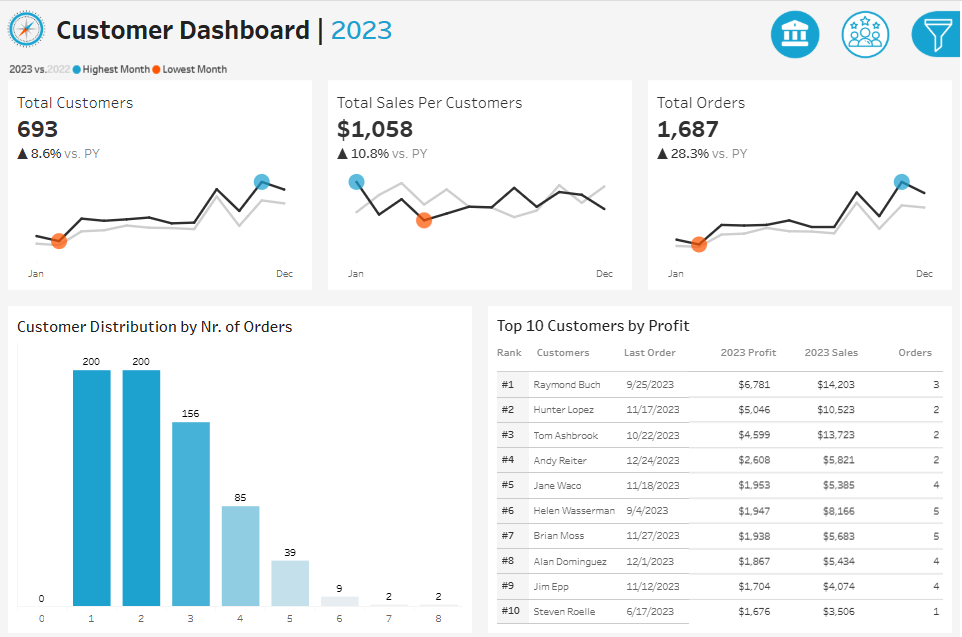

The page's visual inventory and layout, read from the dashboard file:
{"tool":"tableau","page":{"name":"Customer Dashboard","canvas":[1200,800],"ordinal":0},"visuals":[{"type":"image","param":"Image/Icon - Logo.png","box":[0,0,66,70]},{"type":"text","box":[66,0,866,70]},{"type":"dashboard-object","box":[950,7,88,70]},{"type":"dashboard-object","box":[1038,7,87,70]},{"type":"blank","box":[965,10,225,95]},{"type":"worksheet","title":"Legend KPI","mark":"Automatic","box":[0,70,1200,29]},{"type":"worksheet","title":"KPI Customers","mark":"Line","rows":["Calculation_0217446763917322"],"cols":["Order Date"],"box":[0,99,400,272]},{"type":"worksheet","title":"KPI Sales Per Customers","mark":"Line","rows":["Calculation_0217446764216332"],"cols":["Order Date"],"box":[400,99,400,272]},{"type":"worksheet","title":"KPI Orders","mark":"Line","rows":["Calculation_0217446764077067"],"cols":["Order Date"],"box":[800,99,400,272]},{"type":"text","box":[965,105,225,34]},{"type":"parameter","param":"[Parameters].[Parameter 1]","box":[965,139,225,52]},{"type":"text","box":[965,191,225,29]},{"type":"filter","title":"KPI Customers","param":"[federated.10qj6ag14nijd81acj69e0wgoz1s].[none:Category:nk]","box":[965,220,225,52]},{"type":"filter","title":"KPI Customers","param":"[federated.10qj6ag14nijd81acj69e0wgoz1s].[none:Sub-Category:nk]","box":[965,272,225,52]},{"type":"blank","box":[965,324,225,60]},{"type":"text","box":[965,384,225,29]},{"type":"text","box":[17,388,566,34]},{"type":"text","box":[617,388,566,32]},{"type":"filter","title":"KPI Customers","param":"[federated.10qj6ag14nijd81acj69e0wgoz1s].[none:Region:nk]","box":[965,413,225,52]},{"type":"text","box":[617,420,50,39]},{"type":"text","box":[667,420,109,39]},{"type":"text","box":[776,420,121,39]},{"type":"text","box":[897,420,105,39]},{"type":"text","box":[1002,420,117,39]},{"type":"text","box":[1119,420,64,39]},{"type":"worksheet","title":"Customer Distribution","mark":"Bar","rows":["Calculation_0217446758776832"],"cols":["Calculation_0217446759120898"],"box":[17,422,566,361]},{"type":"worksheet","title":"Top Customers","mark":"Automatic","rows":["Customer Name","Order Date"],"box":[617,459,566,324]},{"type":"filter","title":"KPI Customers","param":"[federated.10qj6ag14nijd81acj69e0wgoz1s].[none:State:nk]","box":[965,465,225,52]},{"type":"filter","title":"KPI Customers","param":"[federated.10qj6ag14nijd81acj69e0wgoz1s].[none:City:nk]","box":[965,517,225,52]}]}

Visuals, with their boxes in screenshot pixels (x1, y1, x2, y2), scaled from the page's 1200x800 canvas onto the 962x637 screenshot:
image: select_region(0, 0, 53, 56)
text: select_region(53, 0, 747, 56)
dashboard-object: select_region(762, 6, 832, 61)
dashboard-object: select_region(832, 6, 902, 61)
blank: select_region(774, 8, 954, 84)
"Legend KPI" worksheet: select_region(0, 56, 961, 79)
"KPI Customers" worksheet (Line marks): select_region(0, 79, 321, 295)
"KPI Sales Per Customers" worksheet (Line marks): select_region(321, 79, 641, 295)
"KPI Orders" worksheet (Line marks): select_region(641, 79, 961, 295)
text: select_region(774, 84, 954, 111)
parameter: select_region(774, 111, 954, 152)
text: select_region(774, 152, 954, 175)
"KPI Customers" filter: select_region(774, 175, 954, 217)
"KPI Customers" filter: select_region(774, 217, 954, 258)
blank: select_region(774, 258, 954, 306)
text: select_region(774, 306, 954, 329)
text: select_region(14, 309, 467, 336)
text: select_region(495, 309, 948, 334)
"KPI Customers" filter: select_region(774, 329, 954, 370)
text: select_region(495, 334, 535, 365)
text: select_region(535, 334, 622, 365)
text: select_region(622, 334, 719, 365)
text: select_region(719, 334, 803, 365)
text: select_region(803, 334, 897, 365)
text: select_region(897, 334, 948, 365)
"Customer Distribution" worksheet (Bar marks): select_region(14, 336, 467, 623)
"Top Customers" worksheet: select_region(495, 365, 948, 623)
"KPI Customers" filter: select_region(774, 370, 954, 412)
"KPI Customers" filter: select_region(774, 412, 954, 453)
